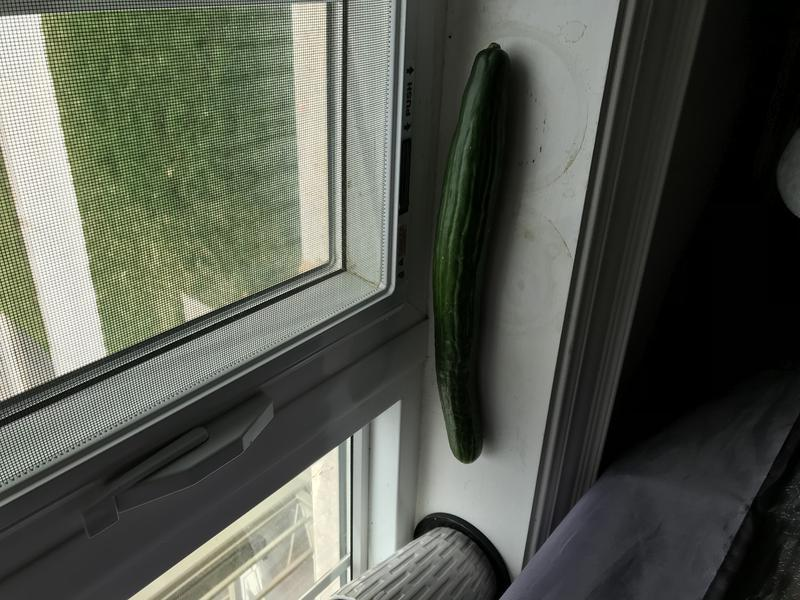cucumber: (428, 34, 531, 480)
